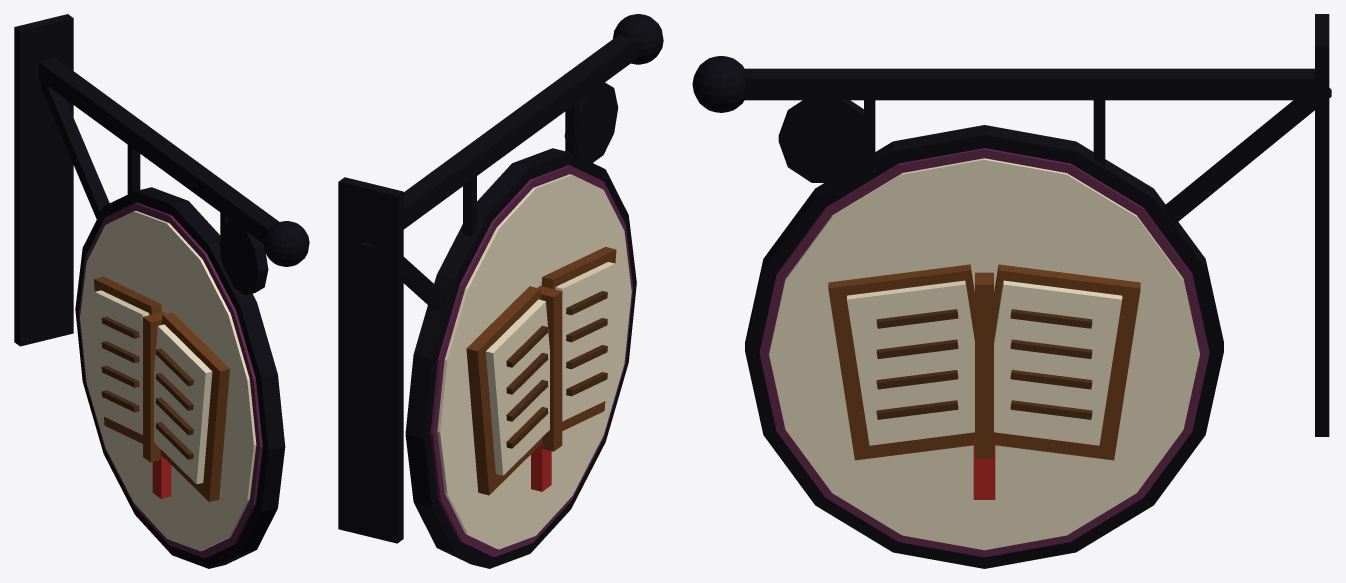
Rendered from shop_bookshop_sign.gltf.
3 renders of one model, left to right at view 1: azimuth 30°, elevation 25°; view 2: azimuth 150°, elevation 25°; view 3: azimuth 270°, elevation 25°, orthographic. The views are drawn at different scales.
Visible parts, largest first — view 1: ShopBookshopSignShopIron, ShopBookshopSignShopCream, ShopBookshopSignShopLeather, ShopBookshopSignShopCloth, ShopBookshopSignShopWood, ShopBookshopSignShopRed; view 2: ShopBookshopSignShopIron, ShopBookshopSignShopCream, ShopBookshopSignShopLeather, ShopBookshopSignShopCloth, ShopBookshopSignShopWood, ShopBookshopSignShopRed; view 3: ShopBookshopSignShopCream, ShopBookshopSignShopIron, ShopBookshopSignShopLeather, ShopBookshopSignShopCloth, ShopBookshopSignShopWood, ShopBookshopSignShopRed.
Boxes of the visible parts, bbox=[...] form: ShopBookshopSignShopIron: bbox=[14, 14, 309, 568]; ShopBookshopSignShopCream: bbox=[80, 211, 256, 551]; ShopBookshopSignShopLeather: bbox=[94, 276, 229, 502]; ShopBookshopSignShopCloth: bbox=[78, 202, 262, 558]; ShopBookshopSignShopWood: bbox=[101, 316, 193, 459]; ShopBookshopSignShopRed: bbox=[152, 455, 171, 498]; ShopBookshopSignShopIron: bbox=[338, 14, 663, 568]; ShopBookshopSignShopCream: bbox=[437, 174, 631, 549]; ShopBookshopSignShopLeather: bbox=[466, 247, 616, 495]; ShopBookshopSignShopCloth: bbox=[430, 165, 633, 556]; ShopBookshopSignShopWood: bbox=[506, 291, 607, 448]; ShopBookshopSignShopRed: bbox=[531, 443, 551, 491]; ShopBookshopSignShopCream: bbox=[769, 158, 1199, 550]; ShopBookshopSignShopIron: bbox=[692, 14, 1331, 568]; ShopBookshopSignShopLeather: bbox=[828, 264, 1140, 460]; ShopBookshopSignShopCloth: bbox=[759, 148, 1209, 557]; ShopBookshopSignShopWood: bbox=[876, 309, 1092, 419]; ShopBookshopSignShopRed: bbox=[973, 439, 995, 499].
Bounding box in the file's own units: 0.21 × 1.23 × 1.33.
